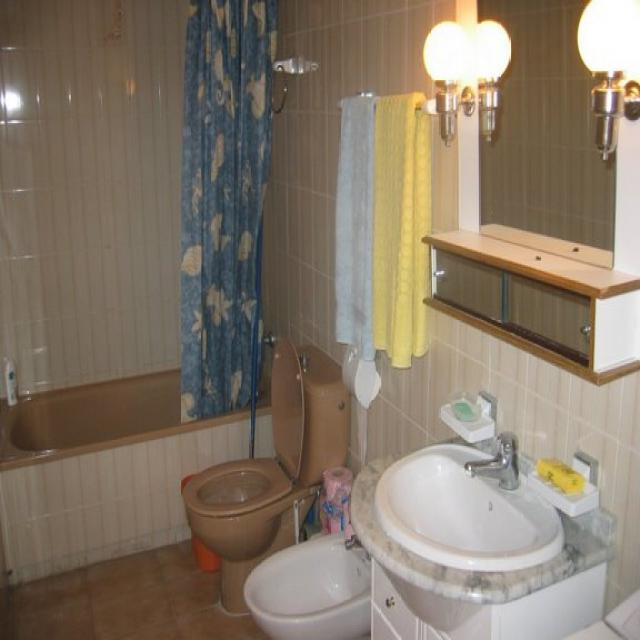2040: (372, 92, 433, 367)
bathroom: (346, 428, 619, 639)
bathtub: (1, 347, 271, 465)
drawer handle: (504, 271, 590, 363), (437, 252, 503, 324)
faucet handle: (463, 434, 520, 489)
floor -X: (1, 510, 372, 639)
light fixture: (578, 1, 622, 160), (421, 19, 476, 145)
mirror crop: (476, 0, 621, 268)
old soap: (536, 456, 588, 499)
reflection of light in mirror: (476, 18, 510, 141)
shampoo: (4, 357, 17, 404)
shelf crop: (422, 228, 637, 293)
shower door handle: (180, 1, 278, 424)
sink faucet: (374, 443, 562, 570)
soap bottle: (451, 401, 476, 416)
soapdish: (443, 390, 482, 422)
tile wall: (79, 179, 101, 249)
toilet: (269, 338, 301, 477)
toilet bowl: (180, 336, 354, 613)
toilet brush occluded: (196, 470, 269, 504)
toilet paper: (321, 464, 354, 505)
toilet seat lid: (181, 336, 303, 517)
wall clock: (254, 0, 639, 639), (1, 0, 254, 396)
white towel: (331, 96, 379, 360)
